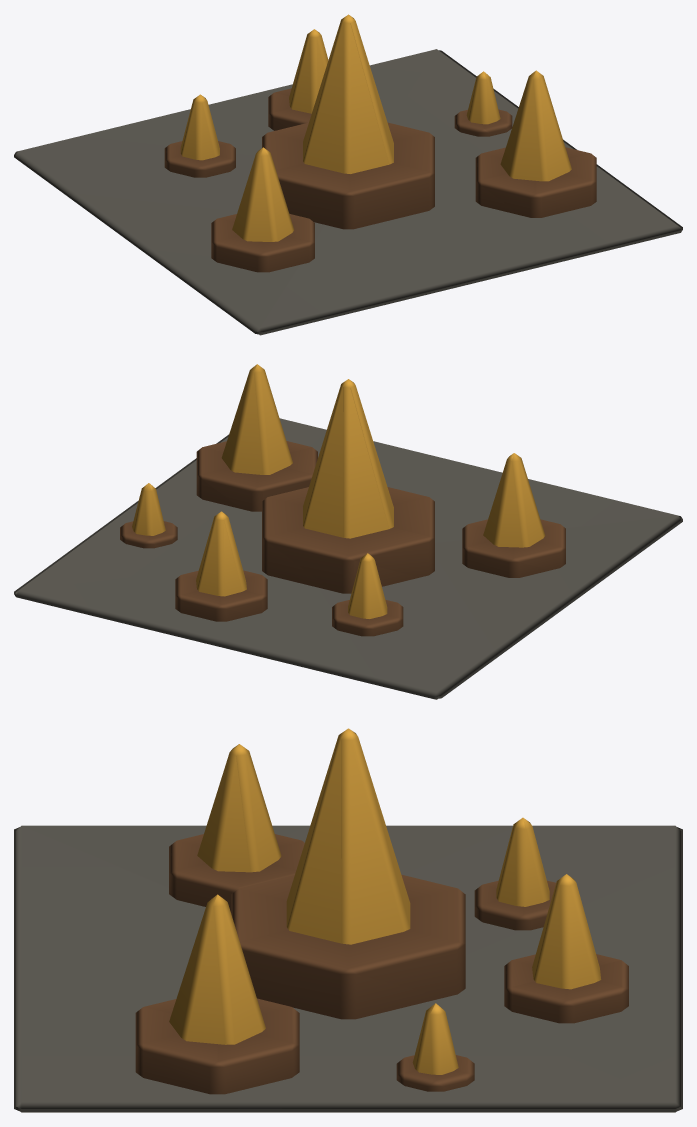
The model's file is ore_field.glb.
3 renders of one model, top to bottom at view 1: azimuth 30°, elevation 25°; view 2: azimuth 150°, elevation 25°; view 3: azimuth 270°, elevation 25°, orthographic. The views are drawn at different scales.
Parts seen in each view (by area): view 1: Body; view 2: Body; view 3: Body.
Part boxes in pixels (left/top/right/bottom): Body: left=14, top=14, right=682, bottom=335; Body: left=14, top=364, right=682, bottom=699; Body: left=14, top=728, right=682, bottom=1112.
Size of the model in its own units: 4.6 by 1.87 by 4.6.
